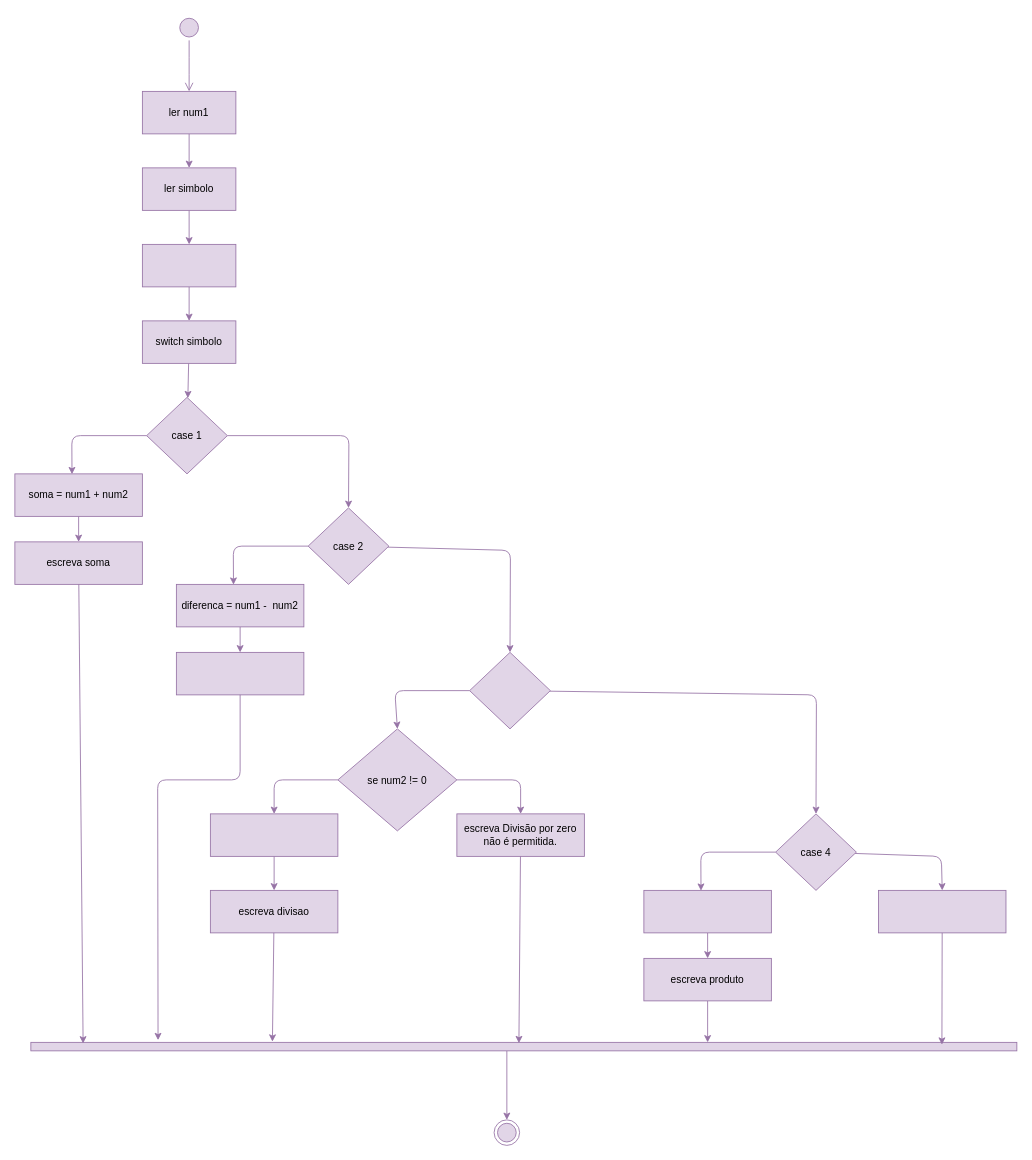
The diagram is 1032 pixels wide and 1160 high, and some of its shapes have lost their labels. Here are the shapes that lost their labels. From the top down, the box of each, then its label:
(142, 244, 236, 287): ler num2
(176, 652, 304, 695): escreva diferenca
(469, 652, 550, 729): case 3
(210, 813, 338, 856): divisao = (double) num1 / num2
(643, 890, 771, 933): produto = num1 * num2
(878, 890, 1006, 933): escreva Opção inválida
